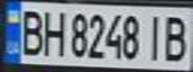2: (84, 9, 106, 60)
4: (103, 10, 124, 61)
8: (121, 10, 145, 61), (66, 8, 90, 59)
B: (160, 11, 193, 63), (15, 6, 45, 56)
H: (36, 7, 69, 57)
I: (142, 11, 169, 62)
